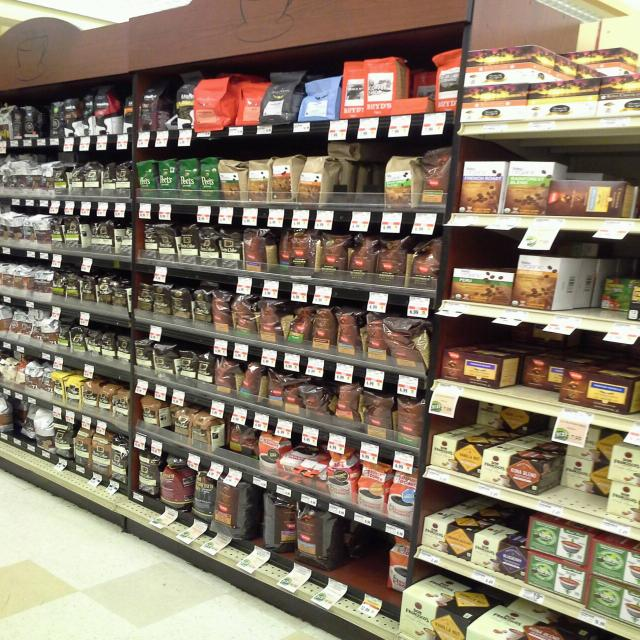empty: (321, 137, 393, 211), (325, 520, 388, 599)
